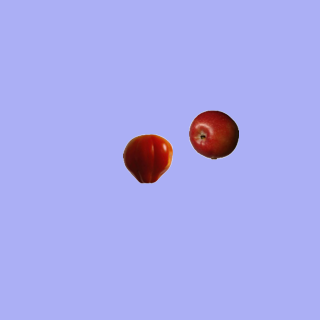Apple Braeburn: (188, 109, 238, 159)
Tomato 1: (122, 133, 172, 183)
